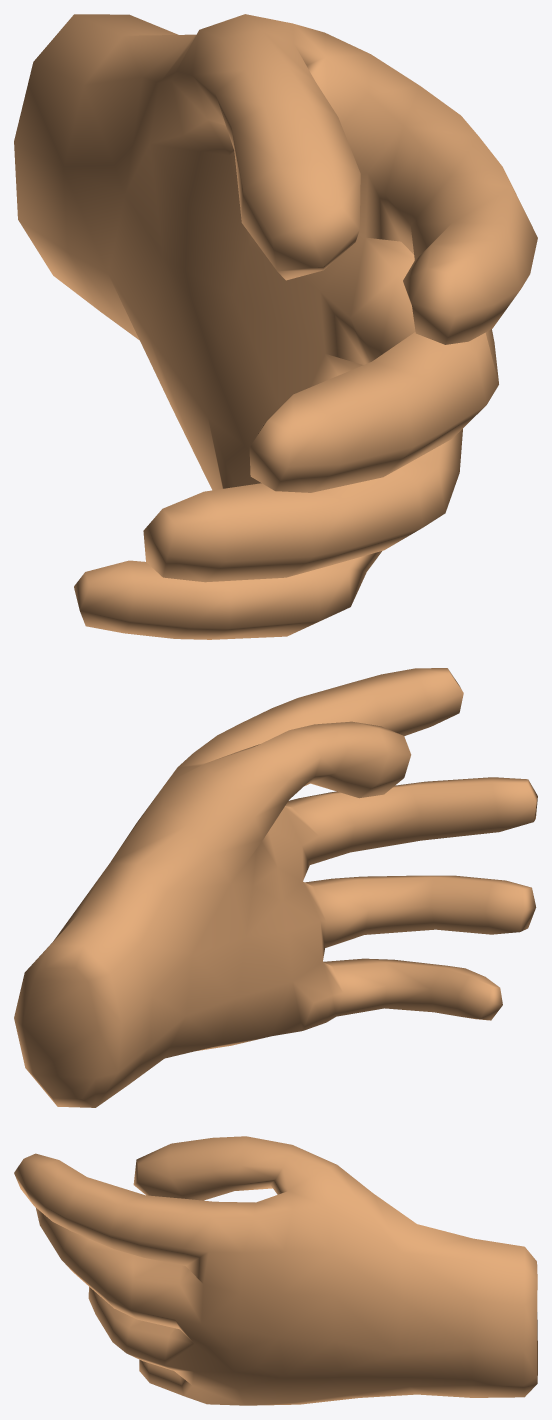
File: left-hand.fbx
The picture shows the model from 3 angles, top to bottom: view 1: azimuth 30°, elevation 25°; view 2: azimuth 150°, elevation 25°; view 3: azimuth 270°, elevation 25°; orthographic projection. The views are drawn at different scales.
Parts seen in each view (by area): view 1: tay trai; view 2: tay trai; view 3: tay trai.
Part boxes in pixels (box(x1,y1,x2,y2)): tay trai: box(14, 14, 537, 639); tay trai: box(14, 668, 537, 1107); tay trai: box(14, 1136, 537, 1405).
Size of the model in its own units: 10.37 by 10.74 by 19.91.
